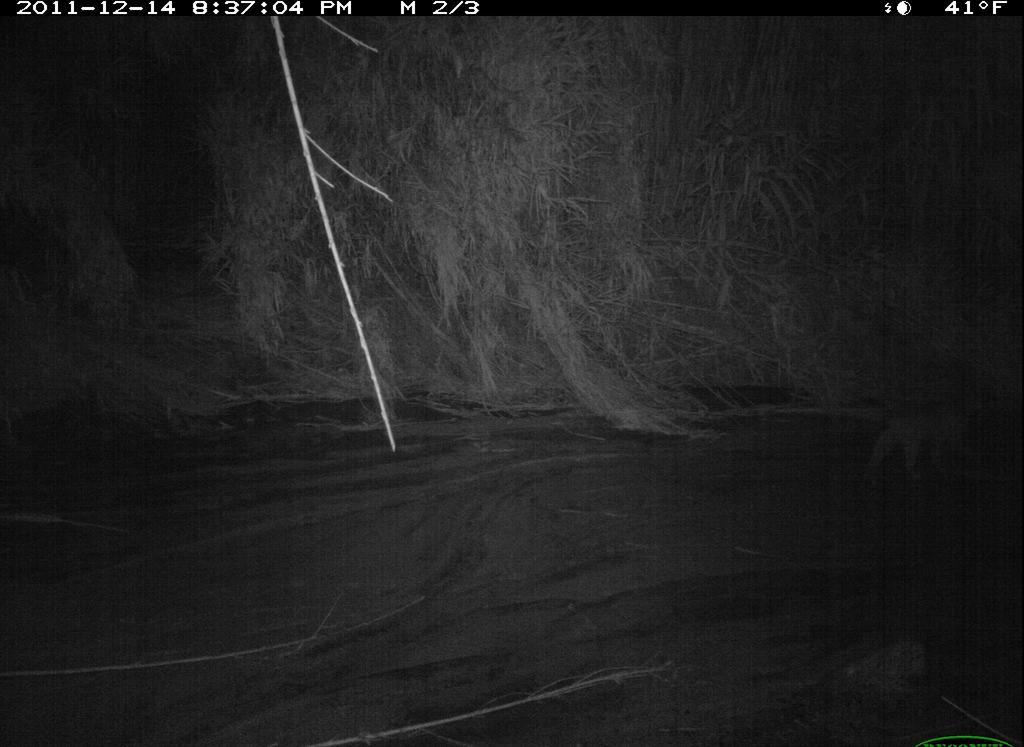bobcat: (854, 397, 998, 492)
